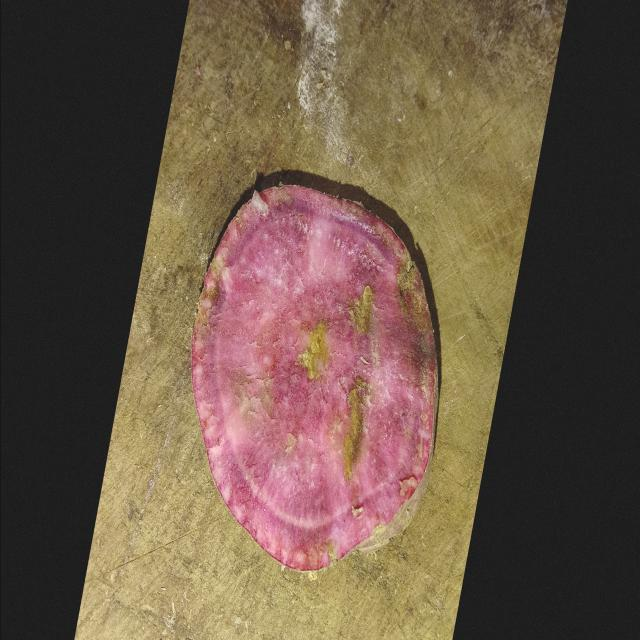Sick Sweet Potato_Tuber Rot: (191, 184, 436, 571)
